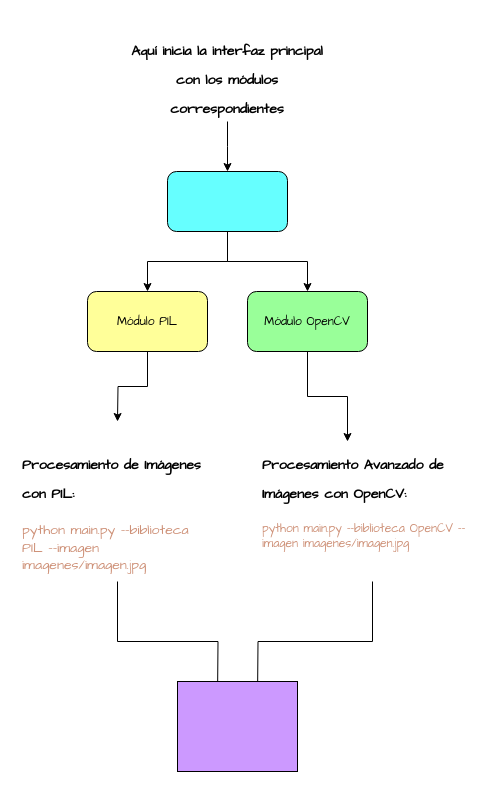
Image size: 504x789. Some labels were removed from this diagram. Here are the shapes that lost their labels. From the top down, the centre of each, then its label:
point 227,201: Interfaz Principal de main que encierra el programa
point 237,726: Imagen jpg de salida con lo seleccionado por el usuario
